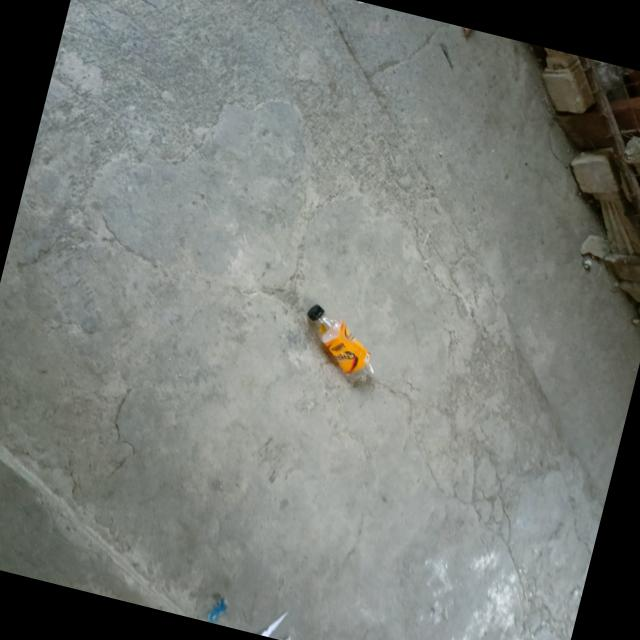Bottle: (307, 303, 373, 381)
